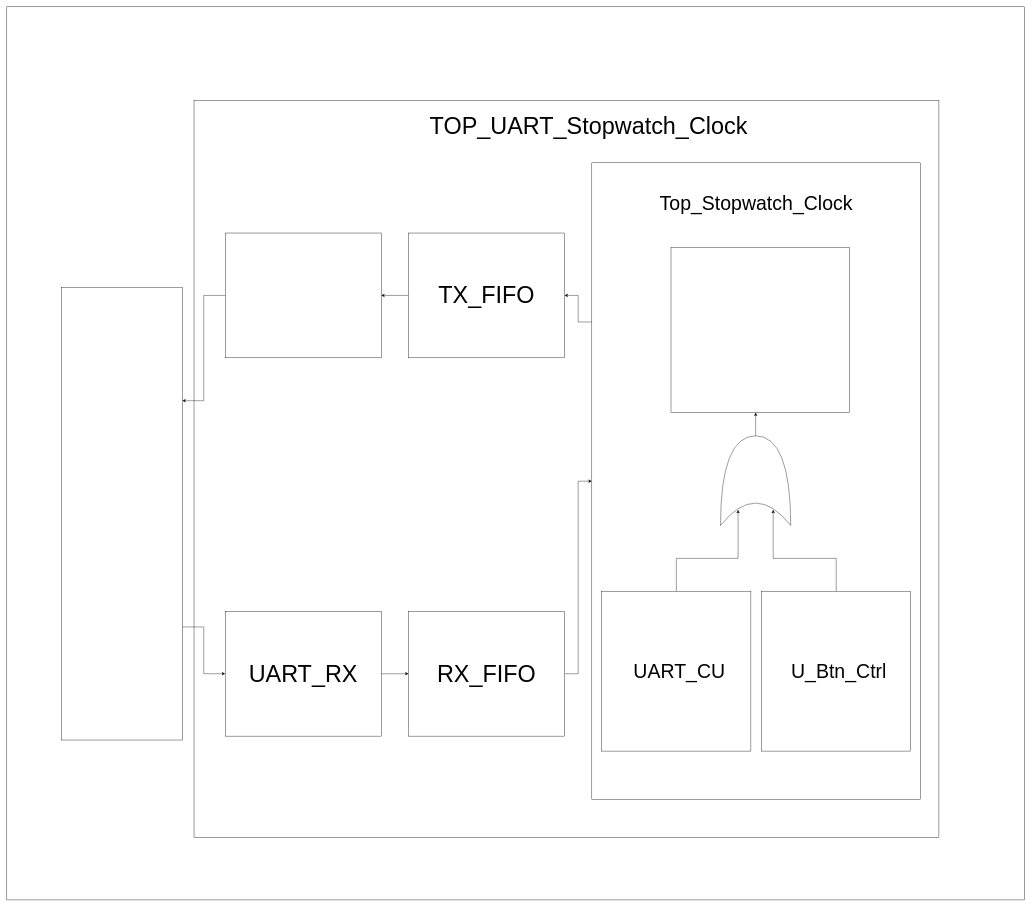
Image size: 1032x907. Some labels were removed from this diagram. Each missing label, with the centre of its shape:
PC: (121,513)
U_Clock: (760,330)
UART_TX: (303,295)
